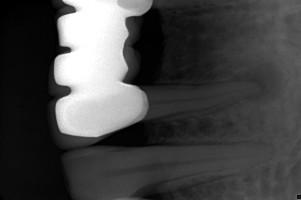Furcation Involvement: (232, 62, 286, 104)
